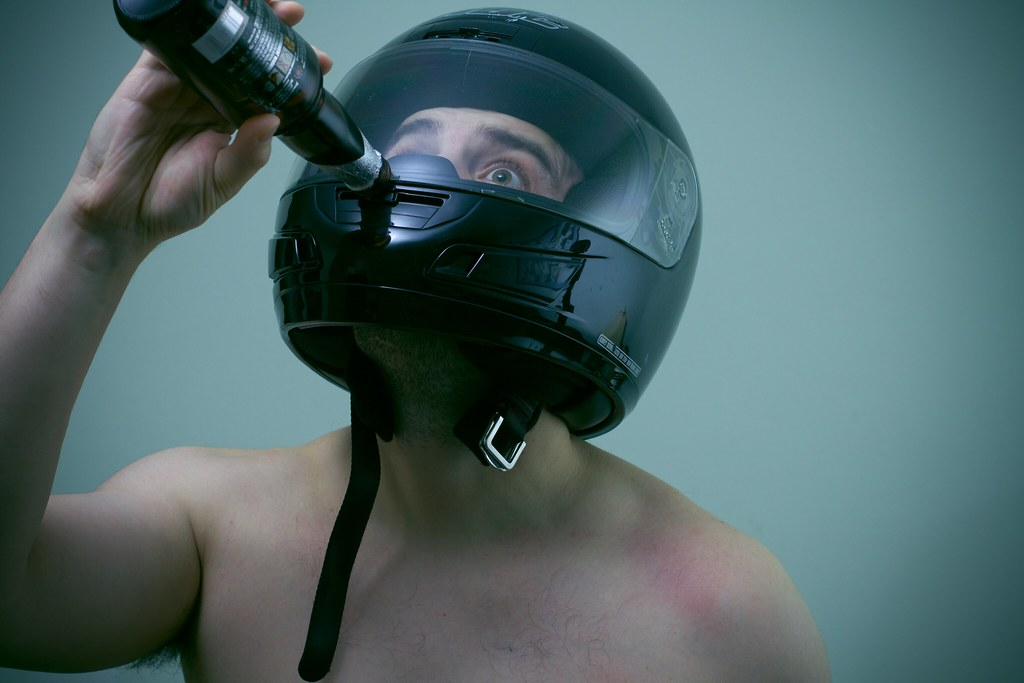helmet: (268, 5, 693, 424)
